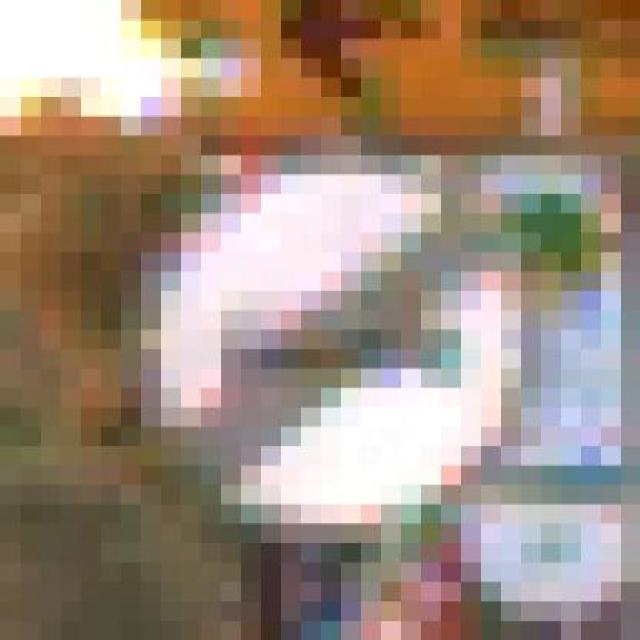No_Over_Taking: (80, 97, 560, 563)
